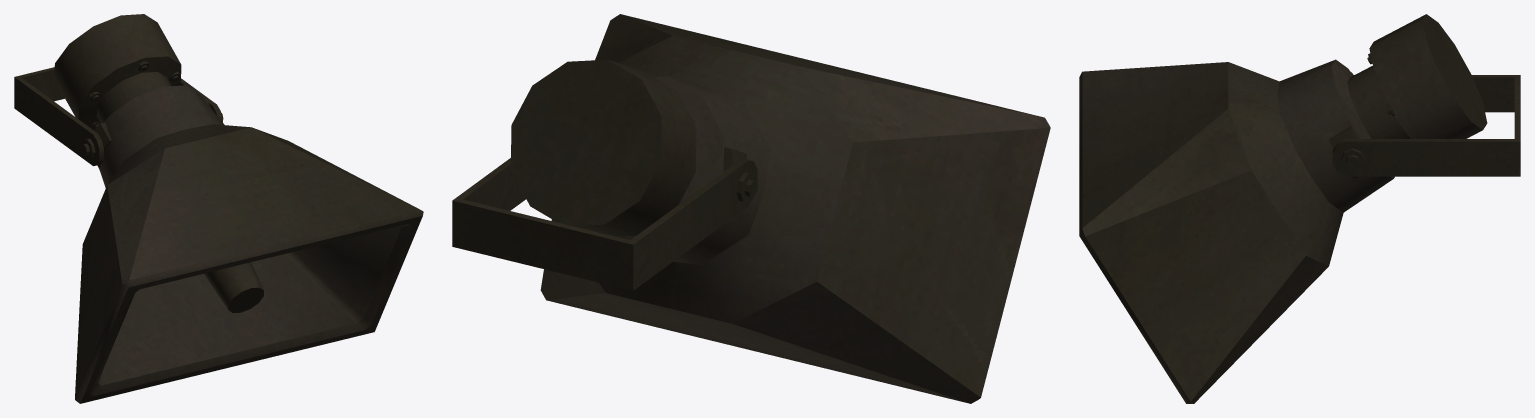
The model's file is speaker_mx_1.glb.
3 renders of one model, left to right at view 1: azimuth 30°, elevation 25°; view 2: azimuth 150°, elevation 25°; view 3: azimuth 270°, elevation 25°, orthographic. The views are drawn at different scales.
Parts seen in each view (by area): view 1: speaker_mx_1; view 2: speaker_mx_1; view 3: speaker_mx_1.
Part boxes in pixels (x1,y1,x2,y2): speaker_mx_1: [14, 14, 423, 403]; speaker_mx_1: [452, 14, 1050, 403]; speaker_mx_1: [1079, 14, 1520, 403].
Bounding box in the file's own units: 0.4947 × 0.4325 × 0.5677.
1 material, 1 textured.
